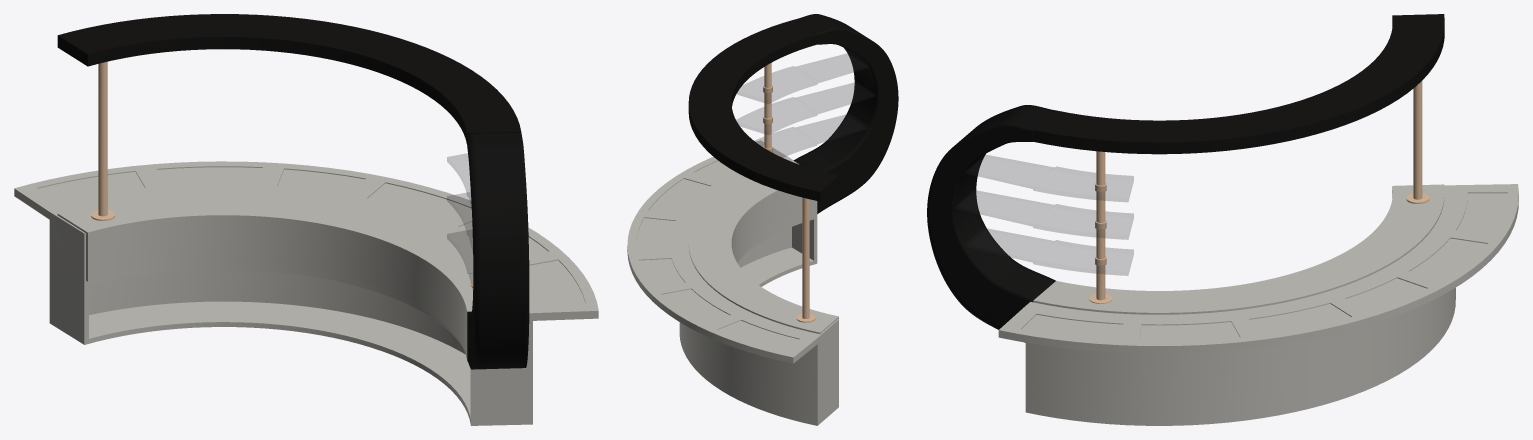
The model's file is uploads_files_1952690_Bar.fbx.
3 views of the same model, side by side, from view 1: azimuth 30°, elevation 25°; view 2: azimuth 150°, elevation 25°; view 3: azimuth 270°, elevation 25° (orthographic). The views are drawn at different scales.
Parts seen in each view (by area): view 1: Tube_3_2, Tube_2_3, Tube, Loft_2, Cylinder_1, Tube_1_3, Tube_2_2; view 2: Tube_3_2, Tube, Tube_2_3, Loft_2, Tube_2_2, Tube_3, Tube_1_3, Cylinder_1, Cylinder; view 3: Tube_3_2, Tube, Loft_2, Tube_2_3, Tube_2_2, Tube_1_3, Tube_3, Cylinder, Cylinder_1.
Boxes of the visible parts, x1,y1,x2,y2 form: Tube_3_2: (14, 161, 598, 425); Tube_2_3: (57, 192, 473, 360); Tube: (57, 14, 521, 144); Loft_2: (467, 132, 529, 369); Cylinder_1: (98, 61, 107, 216); Tube_1_3: (447, 230, 472, 288); Tube_2_2: (447, 192, 472, 250); Tube_3_2: (627, 140, 838, 425); Tube: (688, 20, 838, 201); Tube_2_3: (688, 160, 838, 333); Loft_2: (793, 14, 898, 213); Tube_2_2: (736, 82, 875, 134); Tube_3: (737, 53, 868, 103); Tube_1_3: (755, 114, 868, 157); Cylinder_1: (802, 197, 809, 318); Cylinder: (764, 63, 771, 148); Tube_3_2: (998, 184, 1518, 425); Tube: (1033, 14, 1444, 154); Loft_2: (927, 105, 1055, 342); Tube_2_3: (1033, 184, 1444, 314); Tube_2_2: (956, 190, 1133, 239); Tube_1_3: (965, 228, 1133, 275); Tube_3: (965, 155, 1133, 201); Cylinder: (1096, 151, 1105, 300); Cylinder_1: (1413, 81, 1422, 199).
Bounding box in the file's own units: 14.79 × 11.87 × 22.82.
